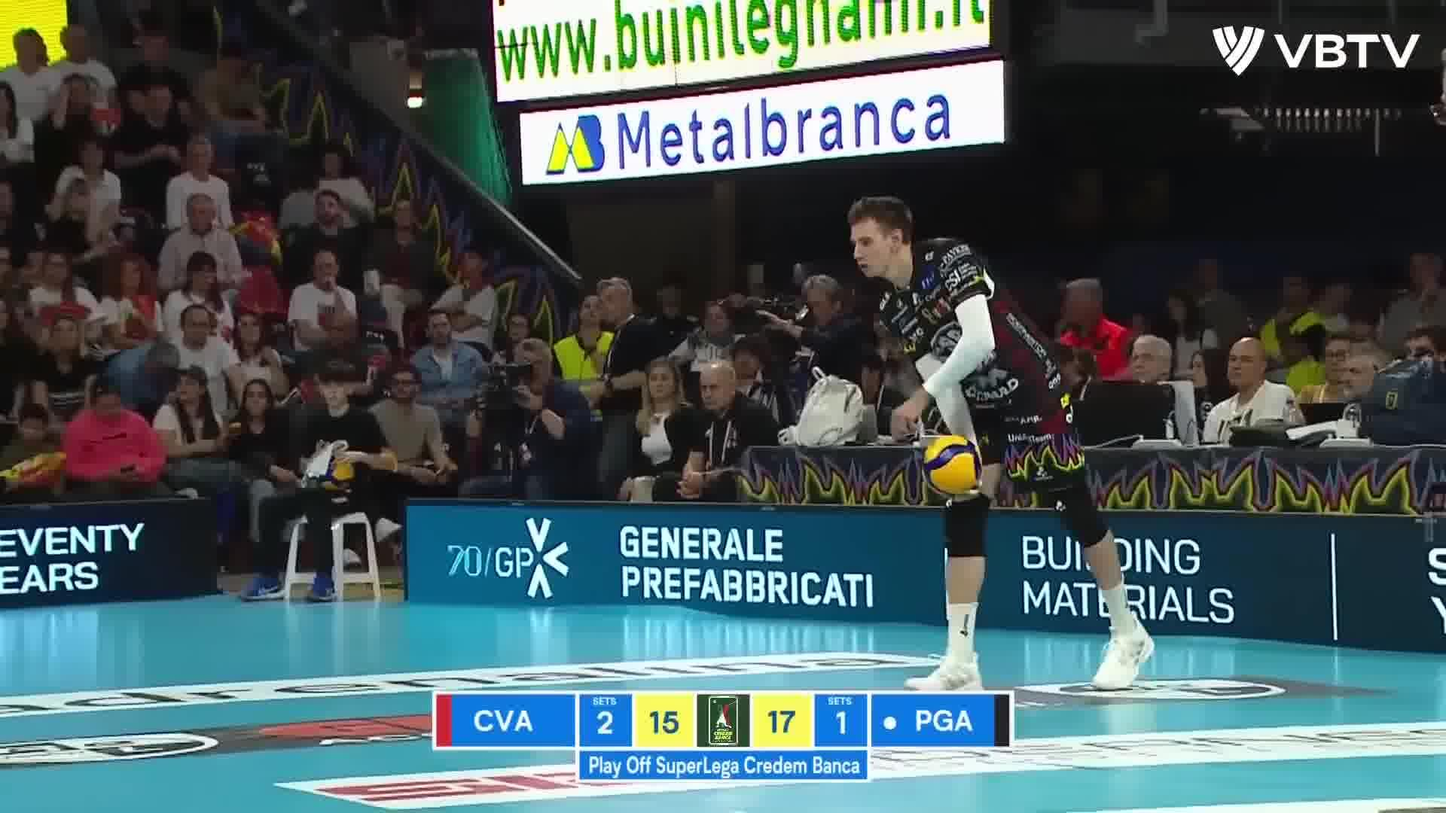balls: (919, 433, 987, 498)
